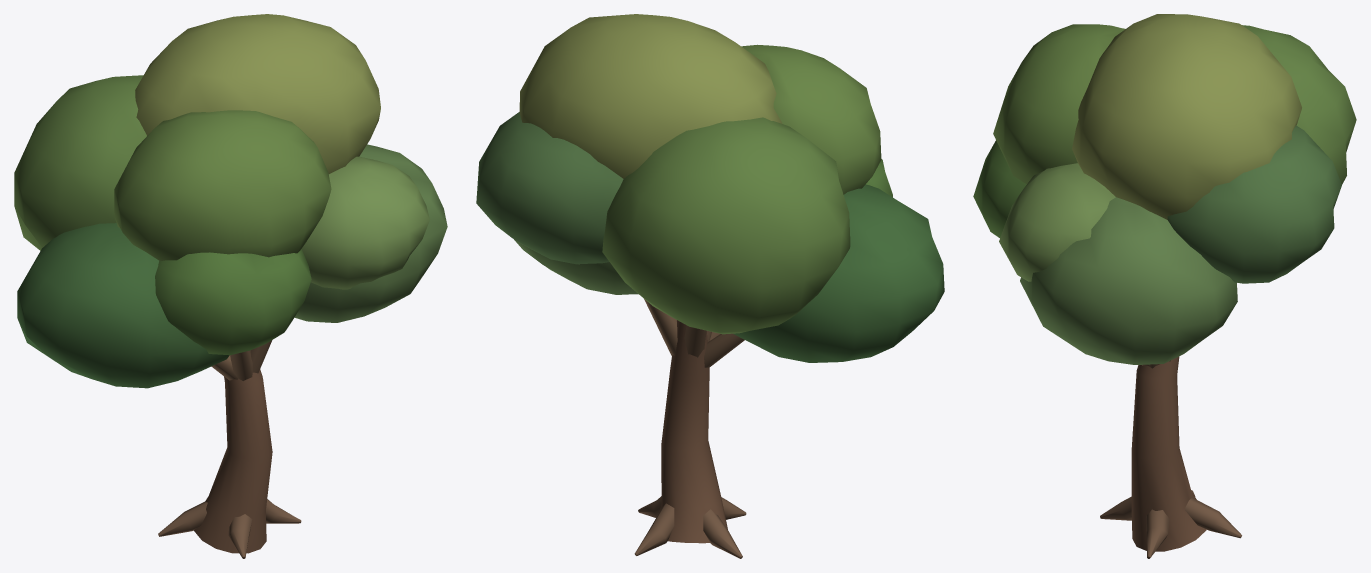
File: broadleaf.glb
3 renders of one model, left to right at view 1: azimuth 30°, elevation 25°; view 2: azimuth 150°, elevation 25°; view 3: azimuth 270°, elevation 25°, orthographic. The views are drawn at different scales.
Parts seen in each view (by area): view 1: Broadleaf; view 2: Broadleaf; view 3: Broadleaf.
Part boxes in pixels (<box>): Broadleaf: <box>14,14,447,558</box>; Broadleaf: <box>476,14,944,558</box>; Broadleaf: <box>973,14,1356,558</box>.
Bounding box in the file's own units: 3.77 × 4.48 × 2.96.
